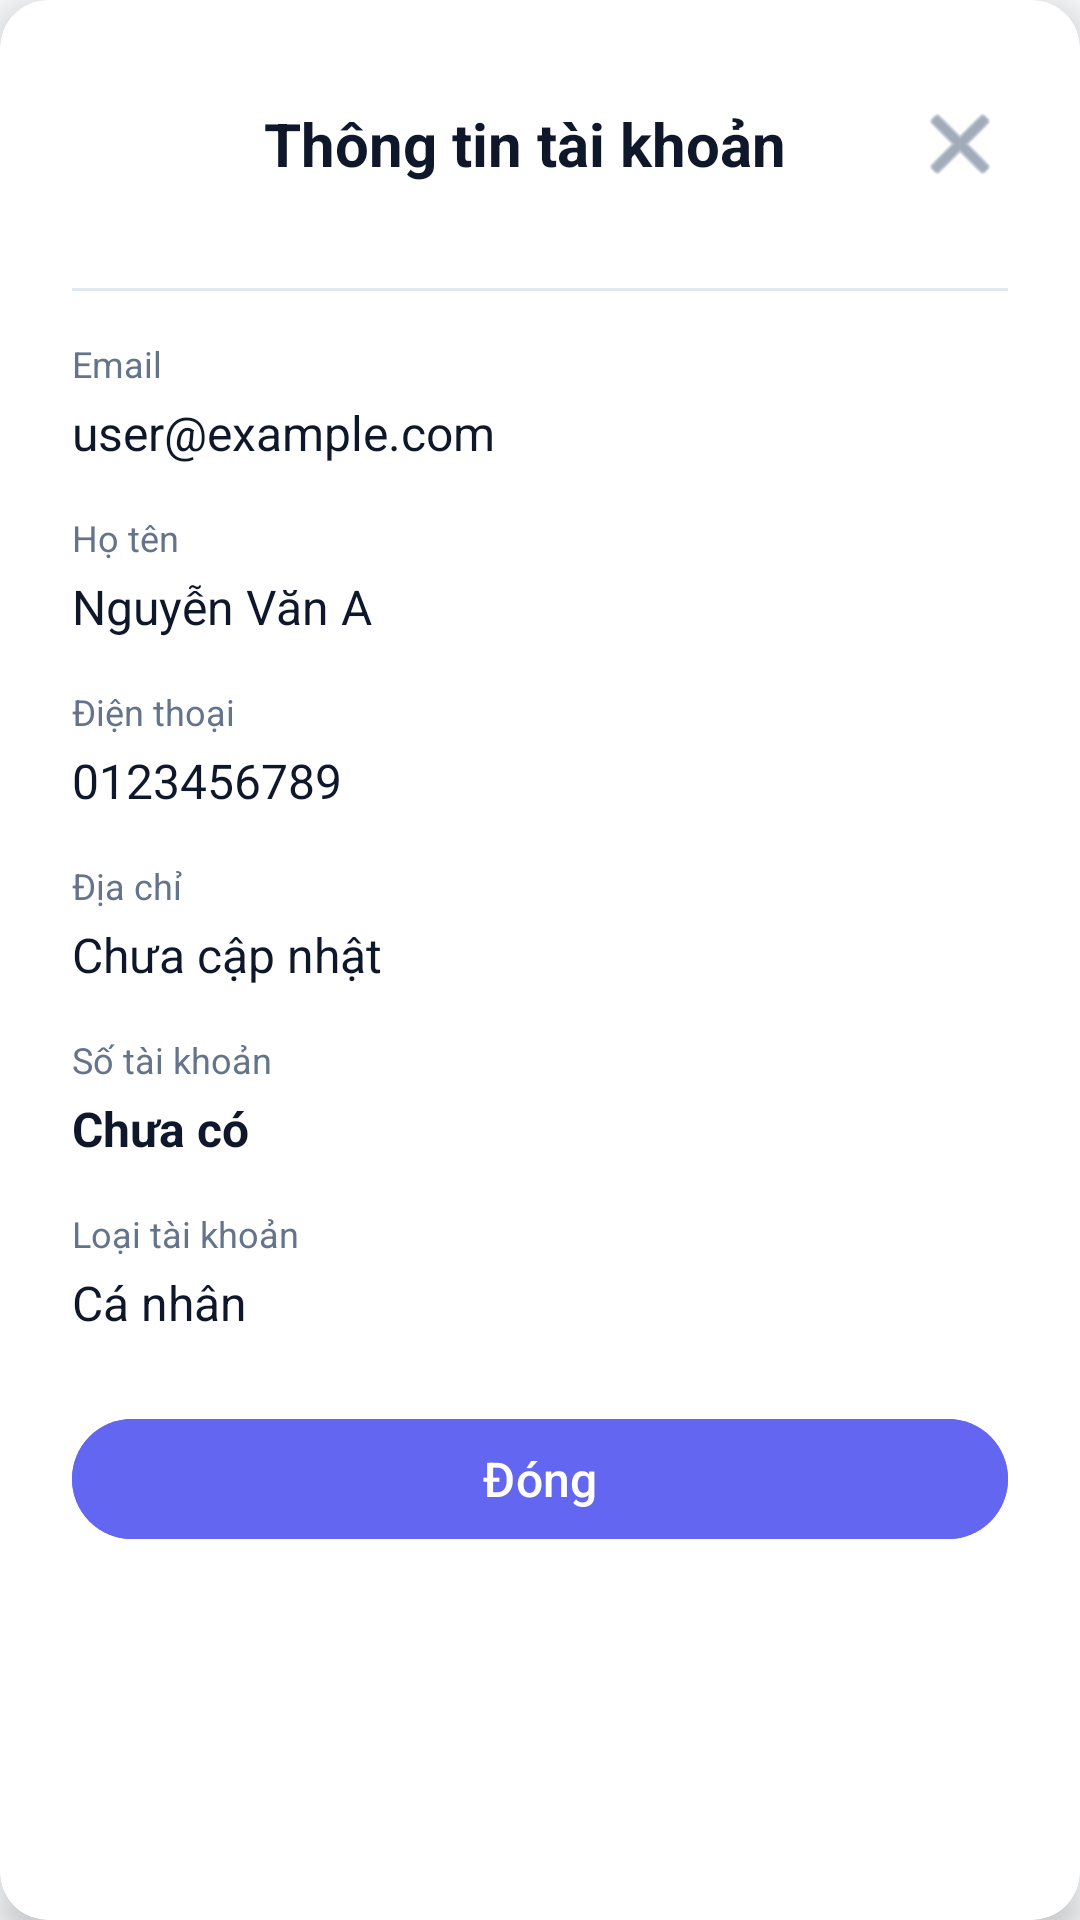

Icon click points for this 1080px×1920px phone screenshot, format (x,y):
Đóng: (960,144)
